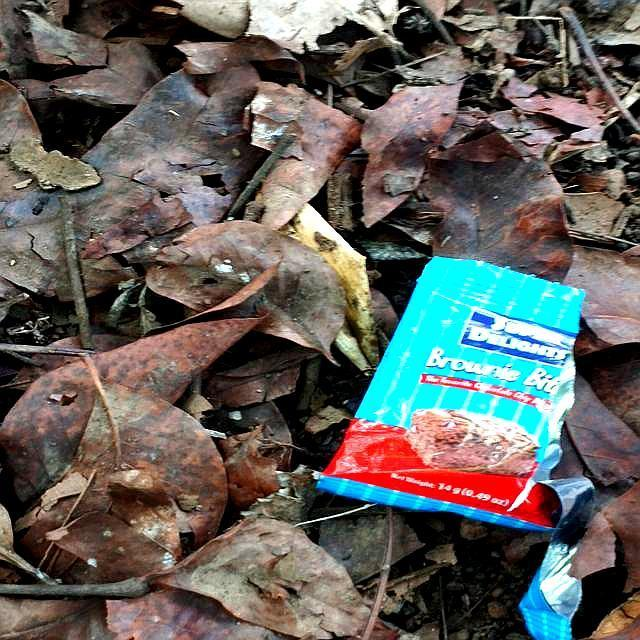Non-biodegradable: (314, 254, 588, 533)
